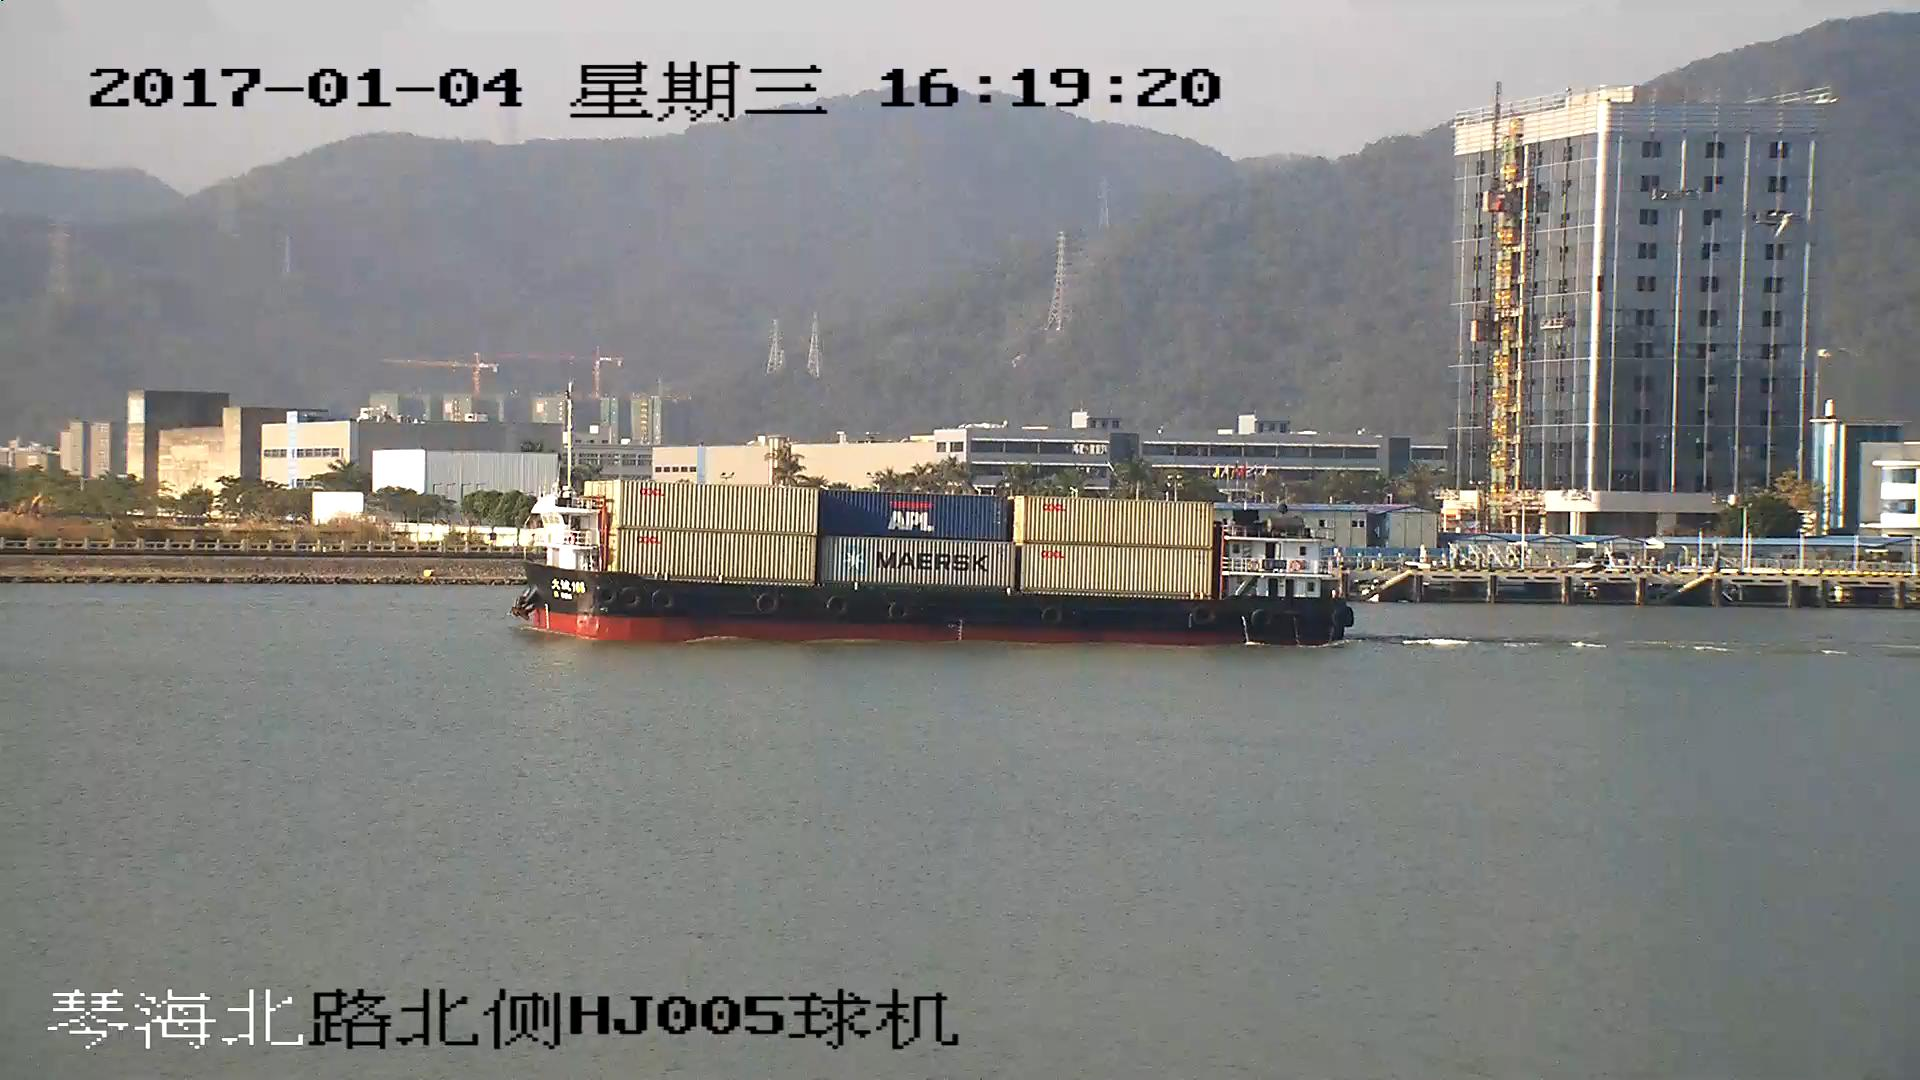container ship: (512, 477, 1354, 646)
